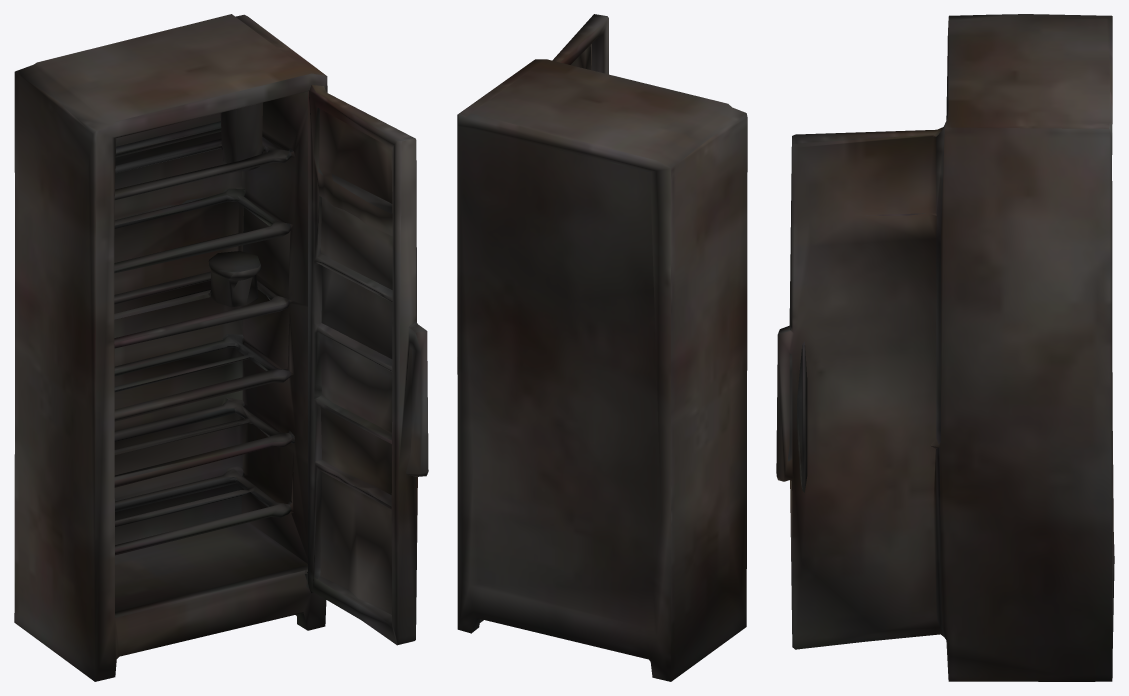
Rendered from simple-iron-medicine-cabinet-v002.glb.
The picture shows the model from 3 angles, left to right: view 1: azimuth 30°, elevation 25°; view 2: azimuth 150°, elevation 25°; view 3: azimuth 270°, elevation 25°; orthographic projection. The views are drawn at different scales.
Visible parts, largest first — view 1: simple-iron-medicine-cabinet; view 2: simple-iron-medicine-cabinet; view 3: simple-iron-medicine-cabinet.
Boxes of the visible parts, <box> form: simple-iron-medicine-cabinet: <box>14,14,428,681</box>; simple-iron-medicine-cabinet: <box>457,14,747,681</box>; simple-iron-medicine-cabinet: <box>776,14,1114,681</box>.
Bounding box in the file's own units: 0.8383 × 1.75 × 0.9596.
1 material, 1 textured.
